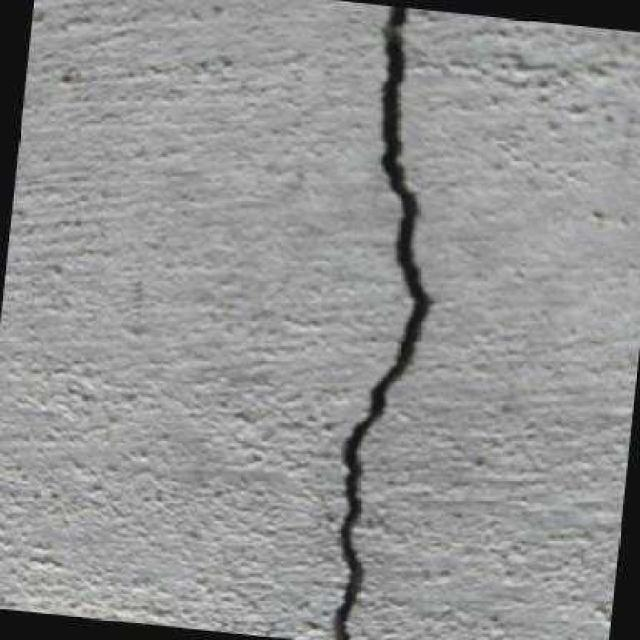D00: (330, 6, 432, 640)
